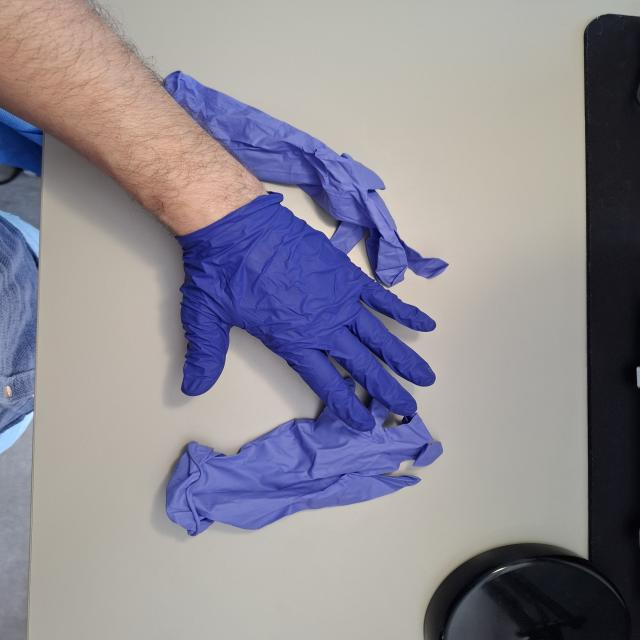glove_on: (172, 195, 440, 434)
